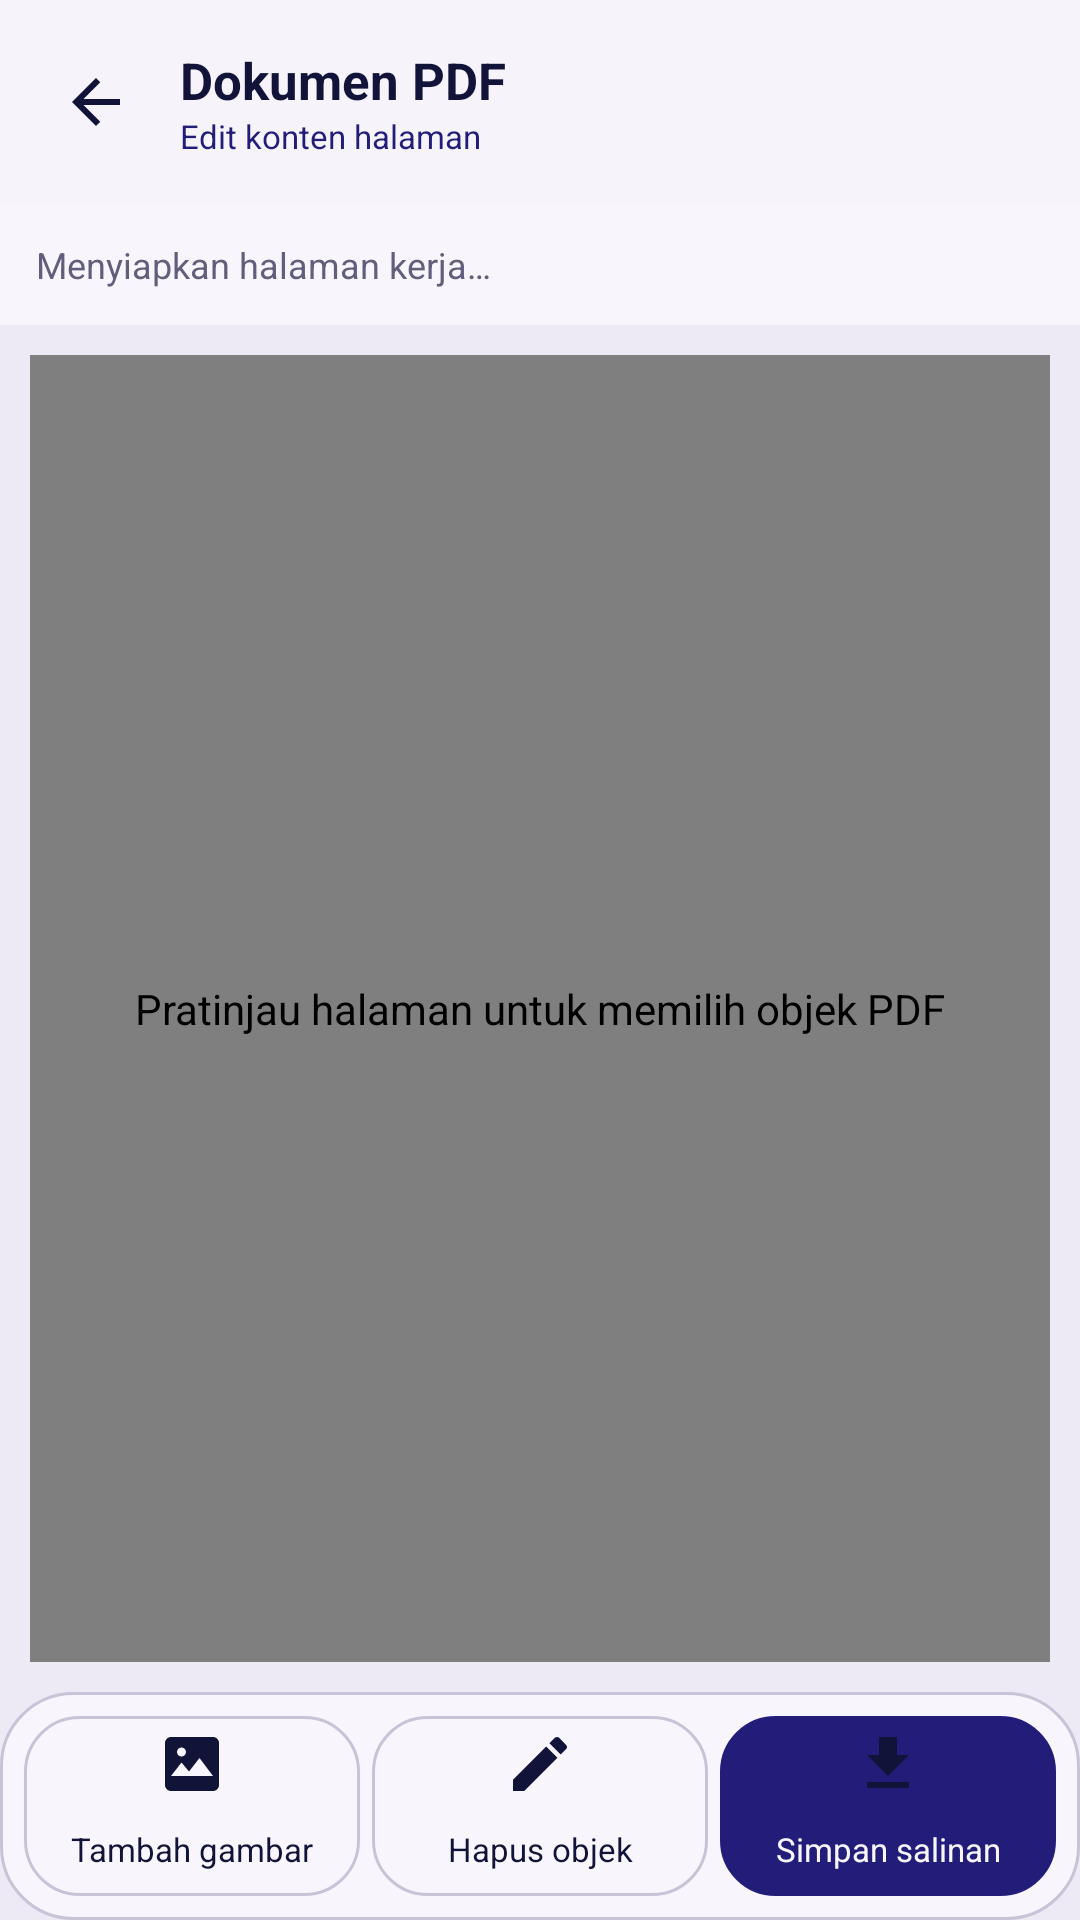

Icon bounding boxes for this 1080px x 1920px phone screenshot, format (x1, y1, x2, y2):
Kembali: (72, 78, 120, 126)
